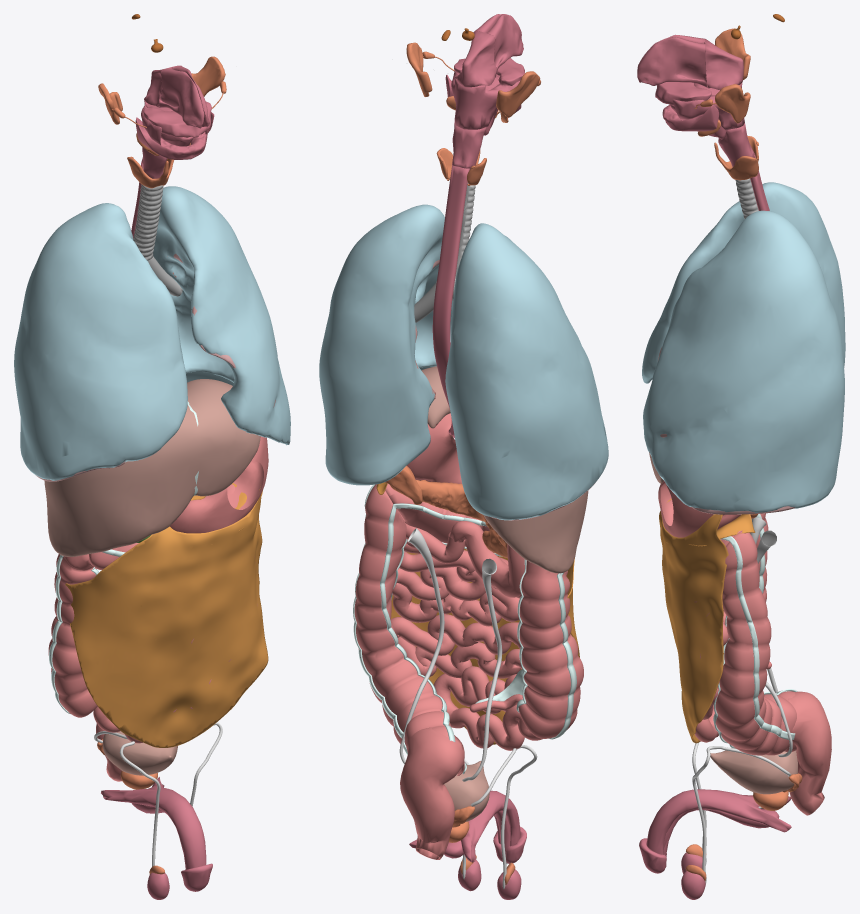
The model's file is visceral.glb.
3 renders of one model, left to right at view 1: azimuth 30°, elevation 25°; view 2: azimuth 150°, elevation 25°; view 3: azimuth 270°, elevation 25°, orthographic. The views are drawn at different scales.
Visible parts, largest first — view 1: Pleura, Greater omentum, Liver, Ascending colon, Stomach, Corpus cavernosum of penis, Gingiva, Mucosa of nasal cavity, Urinary bladder, Trachea, Parotid gland.l, Mesocolic taenia (+3 smaller); view 2: Pleura, Jejunum, Descending colon, Ascending colon, Sigmoid colon, Liver, Oesophagus, Duodenum, Free taenia, Stomach, Pancreas, Oropharynx (+18 smaller); view 3: Pleura, Greater omentum, Descending colon, Sigmoid colon, Corpus cavernosum of penis, Mucosa of nasal cavity, Urinary bladder, Gingiva, Stomach, Mesocolic taenia, Nasopharynx, Parotid gland.l (+13 smaller).
Boxes of the visible parts, x1,y1,x2,y2 form: Pleura: [14, 186, 290, 480]; Greater omentum: [65, 484, 268, 747]; Liver: [44, 379, 260, 556]; Ascending colon: [48, 554, 97, 717]; Stomach: [170, 436, 268, 533]; Corpus cavernosum of penis: [101, 777, 206, 869]; Gingiva: [135, 101, 211, 159]; Mucosa of nasal cavity: [159, 65, 209, 128]; Urinary bladder: [102, 731, 177, 775]; Trachea: [133, 184, 163, 260]; Parotid gland.l: [191, 56, 225, 96]; Mesocolic taenia: [49, 549, 125, 713]; Pleura: [319, 204, 608, 520]; Jejunum: [391, 523, 542, 750]; Descending colon: [354, 484, 464, 775]; Ascending colon: [518, 560, 583, 738]; Sigmoid colon: [400, 727, 464, 859]; Liver: [421, 366, 588, 573]; Oesophagus: [432, 165, 469, 438]; Duodenum: [449, 521, 526, 597]; Free taenia: [380, 503, 527, 741]; Stomach: [407, 413, 461, 483]; Pancreas: [390, 480, 507, 558]; Oropharynx: [451, 71, 520, 129]; Pleura: [642, 182, 845, 512]; Greater omentum: [659, 498, 728, 743]; Descending colon: [715, 530, 796, 755]; Sigmoid colon: [788, 691, 831, 815]; Corpus cavernosum of penis: [646, 789, 791, 854]; Mucosa of nasal cavity: [637, 34, 706, 86]; Urinary bladder: [710, 748, 797, 794]; Gingiva: [655, 82, 718, 131]; Stomach: [658, 480, 740, 537]; Mesocolic taenia: [720, 536, 795, 739]; Nasopharynx: [705, 39, 743, 89]; Parotid gland.l: [715, 84, 750, 123].
Bounding box in the file's own units: 0.2634 × 0.8931 × 0.1926.
